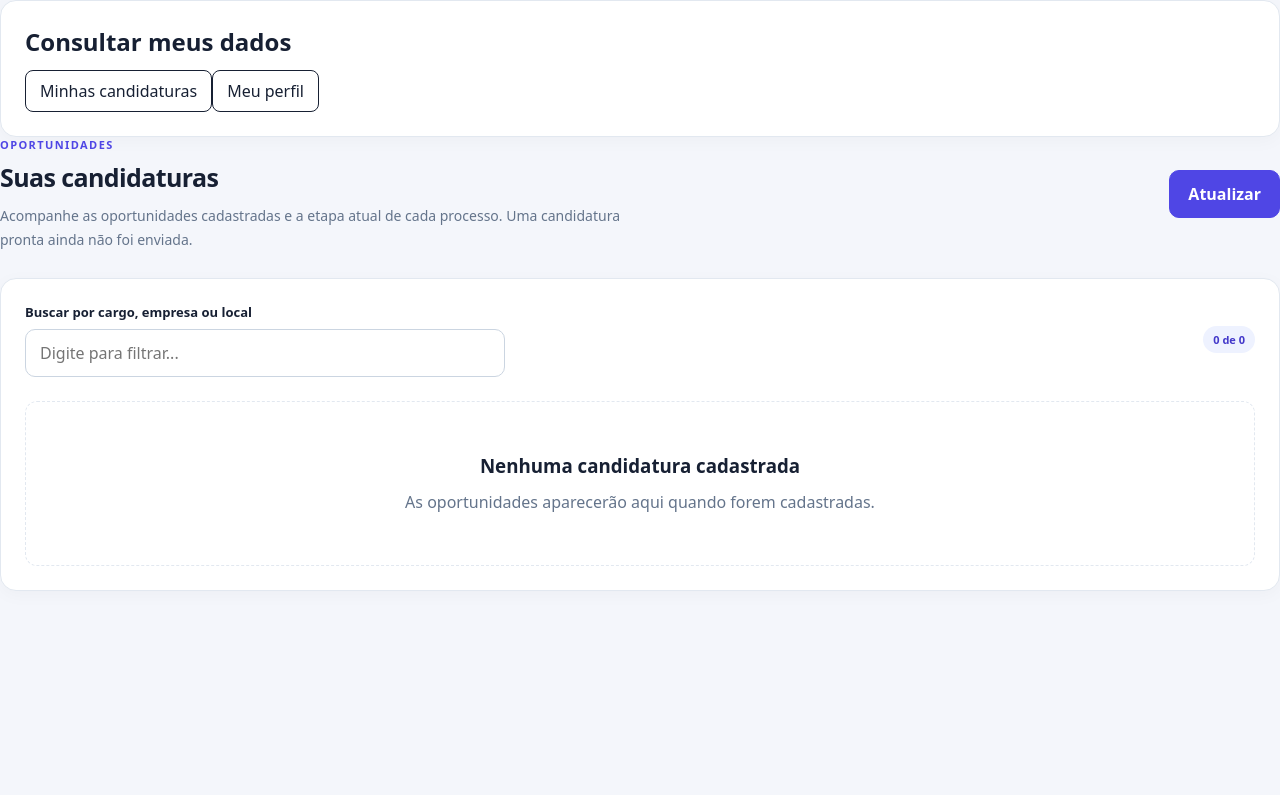
mostra o perfil com campos protegidos e sem permitir salvar
What coordinates should you click on to do the following:
click the button "Meu perfil"
I would click on:
 (266, 91)
Its box is [212,70,319,112].
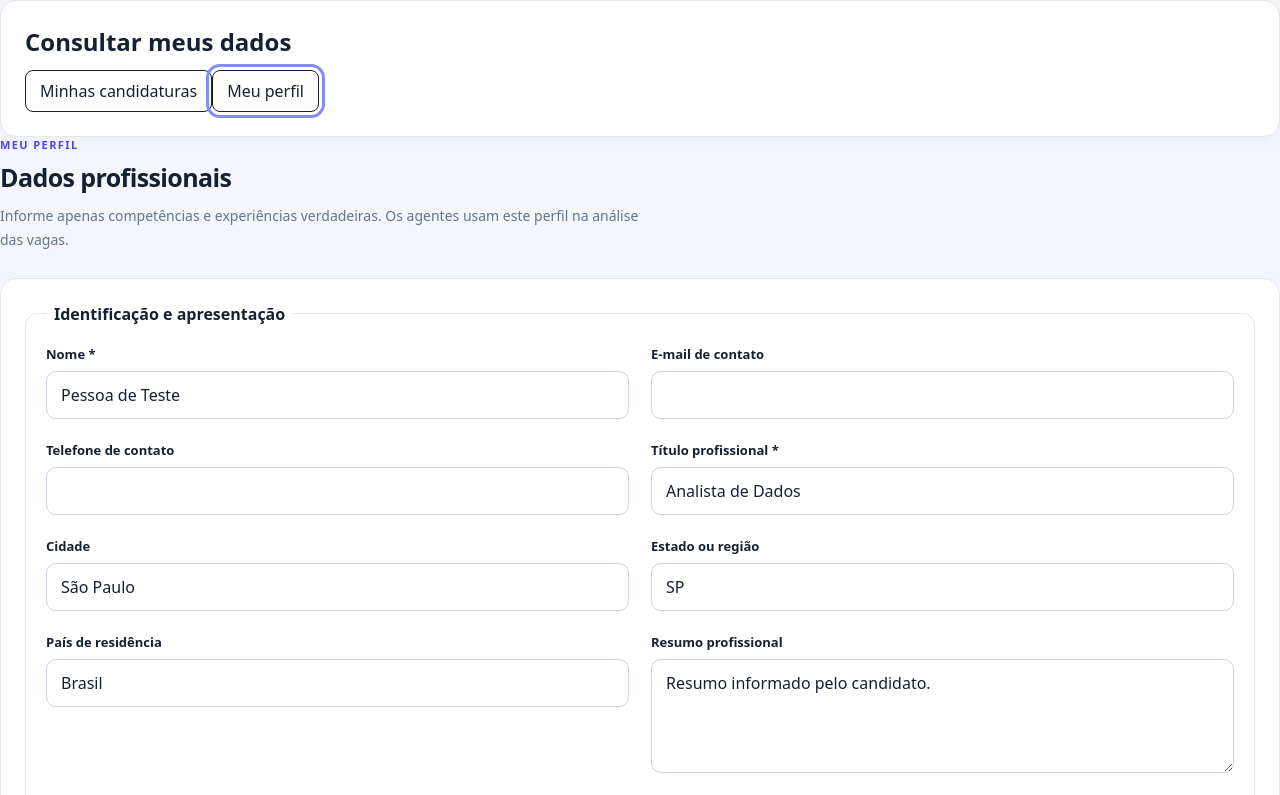
expect the field labelled "Nome *" holds "Pessoa de Teste": met, box [46,371,629,419]
